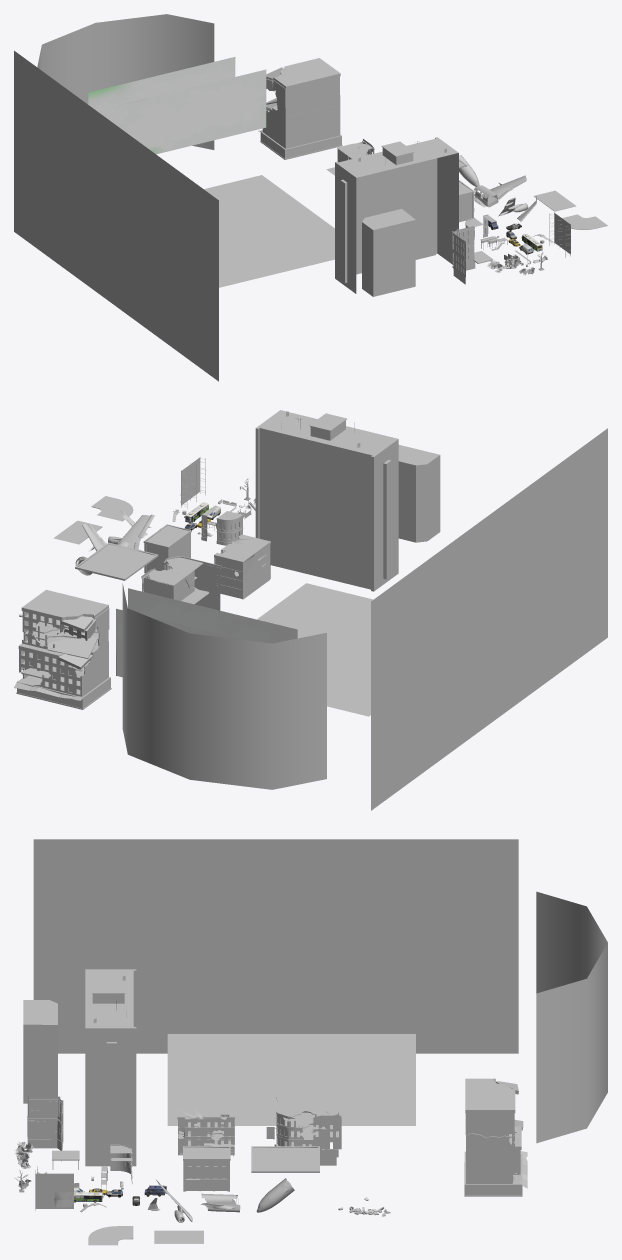
File: Map_P04_City.fbx
3 renders of one model, top to bottom at view 1: azimuth 30°, elevation 25°; view 2: azimuth 150°, elevation 25°; view 3: azimuth 270°, elevation 25°, orthographic. The views are drawn at different scales.
Visible parts, largest first — view 1: Background Ambush, BackGround, Asset_Road_001, Cloud, default/wall\wall_pripyat_houses.dds.039, Cube.142, Cloud.001, Asset_Building4.014, default/wall\wall_pripyat_houses.dds.038, default/wall\wall_pripyat_houses.dds.041, Asset_Building4.013, Asset_Building4.025 (+8 smaller); view 2: Background Ambush, BackGround, default/wall\wall_pripyat_houses.dds.039, Asset_Road_001, Cube.142, Cloud, default/wall\wall_pripyat_houses.dds.041, Asset_Building4.014, Asset_Building2.004, Asset_BuildingPlane, Asset_Building3.002, Asset_Building4.013 (+15 smaller); view 3: Background Ambush, Asset_Road_001, BackGround, default/wall\wall_pripyat_houses.dds.038, Cube.142, default/wall\wall_pripyat_houses.dds.039, Asset_BuildingPlane, Asset_Building3.002, Asset_Building4.014, Asset_Building2.004, Asset_Building4.013, Asset_Building6.002 (+14 smaller).
Part boxes in pixels (x1,y1,x2,y2): Background Ambush: (14,50,218,381); BackGround: (37,14,214,149); Asset_Road_001: (204,175,334,287); Cloud: (119,69,266,154); default/wall\wall_pripyat_houses.dds.039: (335,137,458,274); Cube.142: (362,209,415,296); Cloud.001: (88,57,235,126); Asset_Building4.014: (262,107,340,148); default/wall\wall_pripyat_houses.dds.038: (436,153,458,264); default/wall\wall_pripyat_houses.dds.041: (335,162,356,293); Asset_Building4.013: (273,58,340,89); Asset_Building4.025: (272,76,339,107); Background Ambush: (371,428,607,810); BackGround: (122,583,326,789); default/wall\wall_pripyat_houses.dds.039: (256,410,397,589); Asset_Road_001: (257,583,373,716); Cube.142: (398,445,440,542); Cloud: (128,588,297,643); default/wall\wall_pripyat_houses.dds.041: (371,439,398,591); Asset_Building4.014: (19,644,108,696); Asset_Building2.004: (214,538,270,599); Asset_BuildingPlane: (75,542,158,580); Asset_Building3.002: (141,557,220,610); Asset_Building4.013: (21,589,108,620); Background Ambush: (33,839,518,1053); Asset_Road_001: (167,1034,415,1125); BackGround: (536,891,607,1143); default/wall\wall_pripyat_houses.dds.038: (85,1028,136,1166); Cube.142: (23,1000,57,1103); default/wall\wall_pripyat_houses.dds.039: (85,969,136,1028); Asset_BuildingPlane: (251,1146,319,1172); Asset_Building3.002: (274,1102,341,1165); Asset_Building4.014: (466,1150,520,1183); Asset_Building2.004: (177,1102,234,1155); Asset_Building4.013: (465,1078,515,1113); Asset_Building6.002: (27,1096,63,1150).
Bounding box in the file's own units: 217 × 91.08 × 229.
